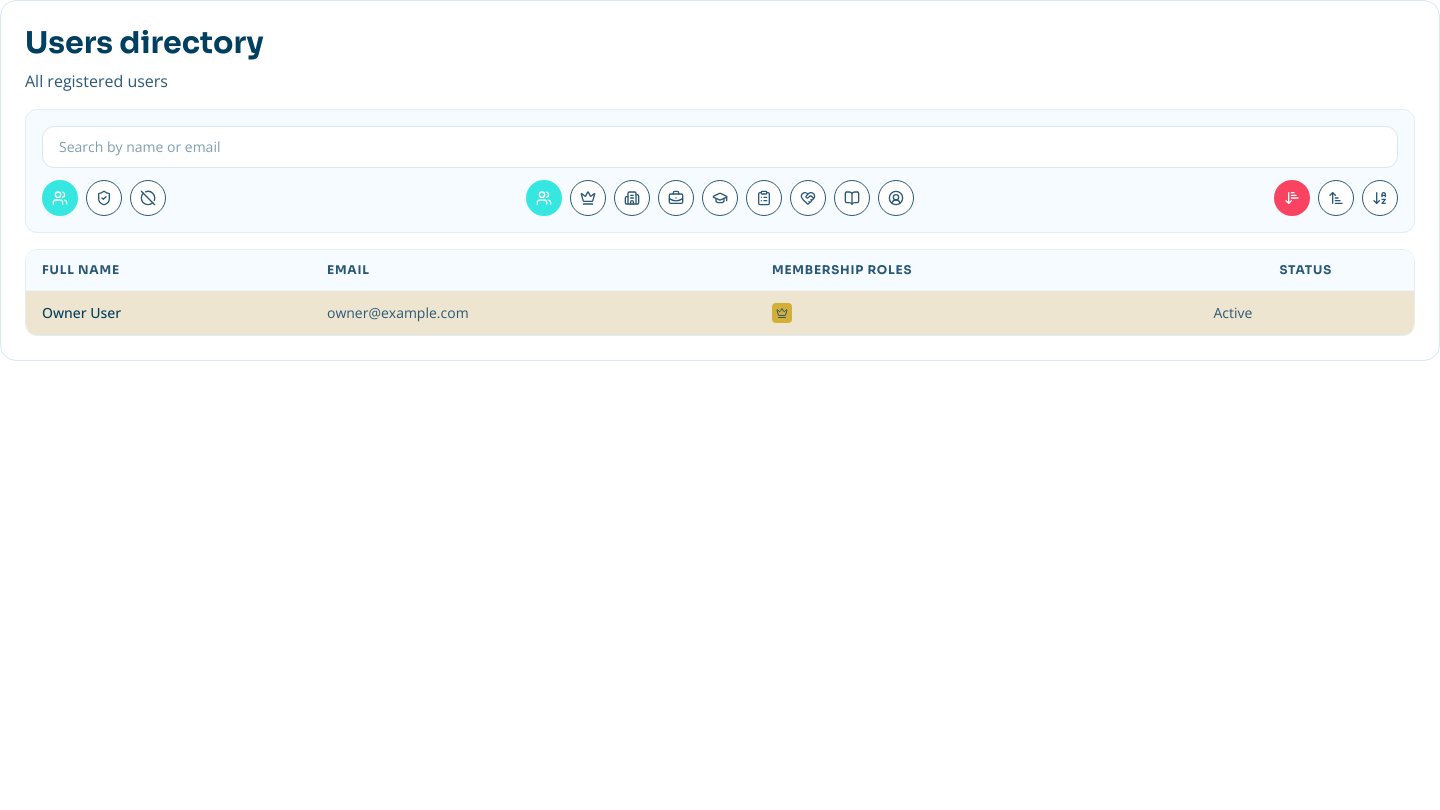
Test case: SuperadminUsersDirectory › shows school owner in profile modal even when owner role is not assignable
What coordinates should you click on to do the following:
click the button "Owner User"
I would click on:
 (82, 313)
Its box is [42,303,121,323].
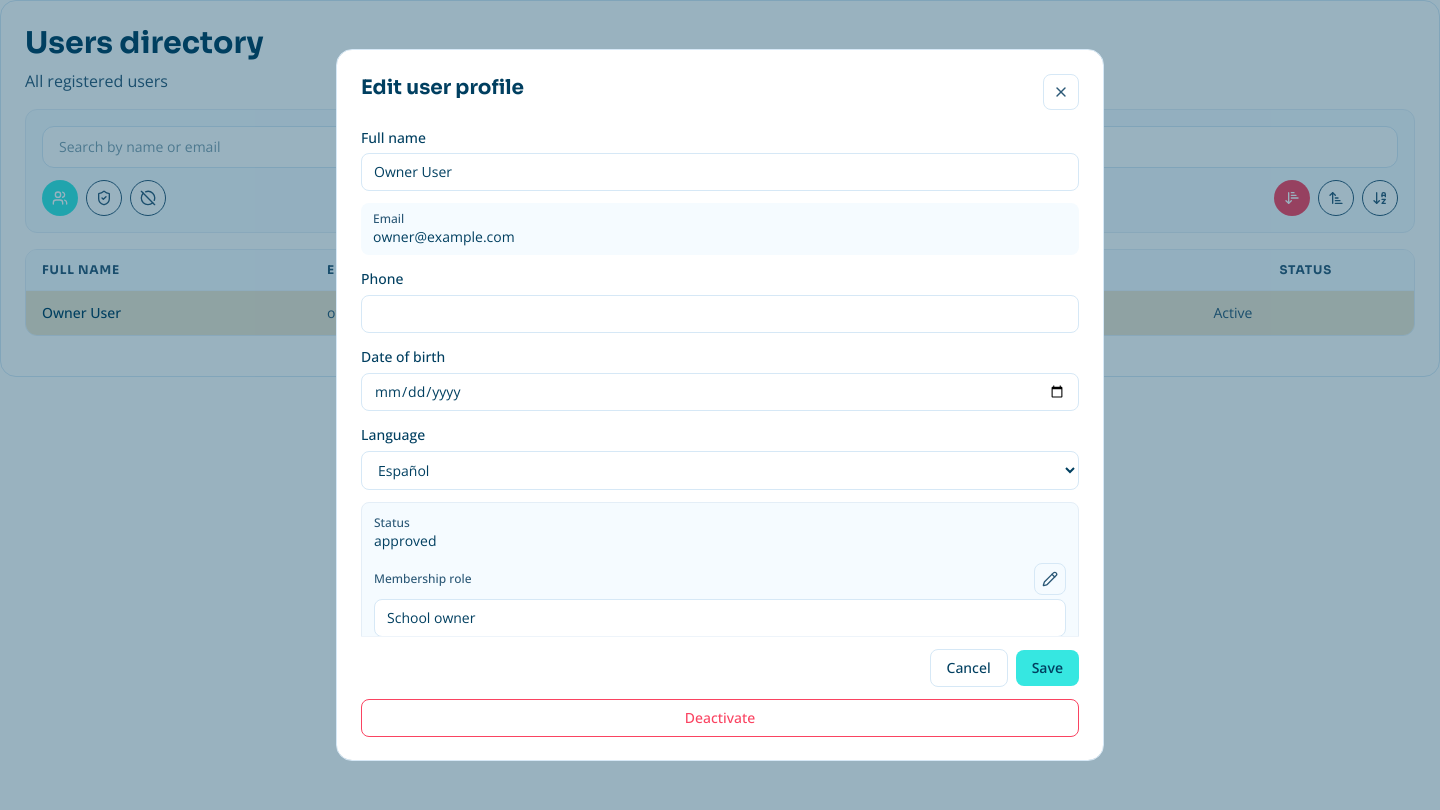
Check: the text "Membership role" is shown, box [374,571,472,587]
